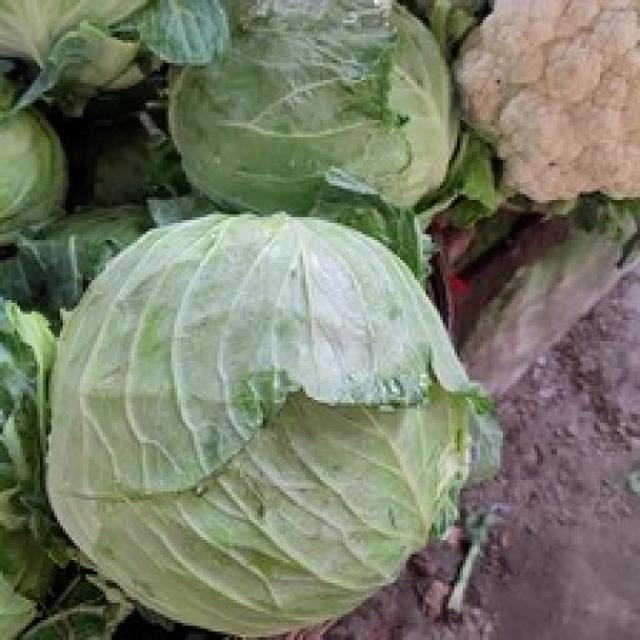Cabbage: (43, 209, 503, 637)
